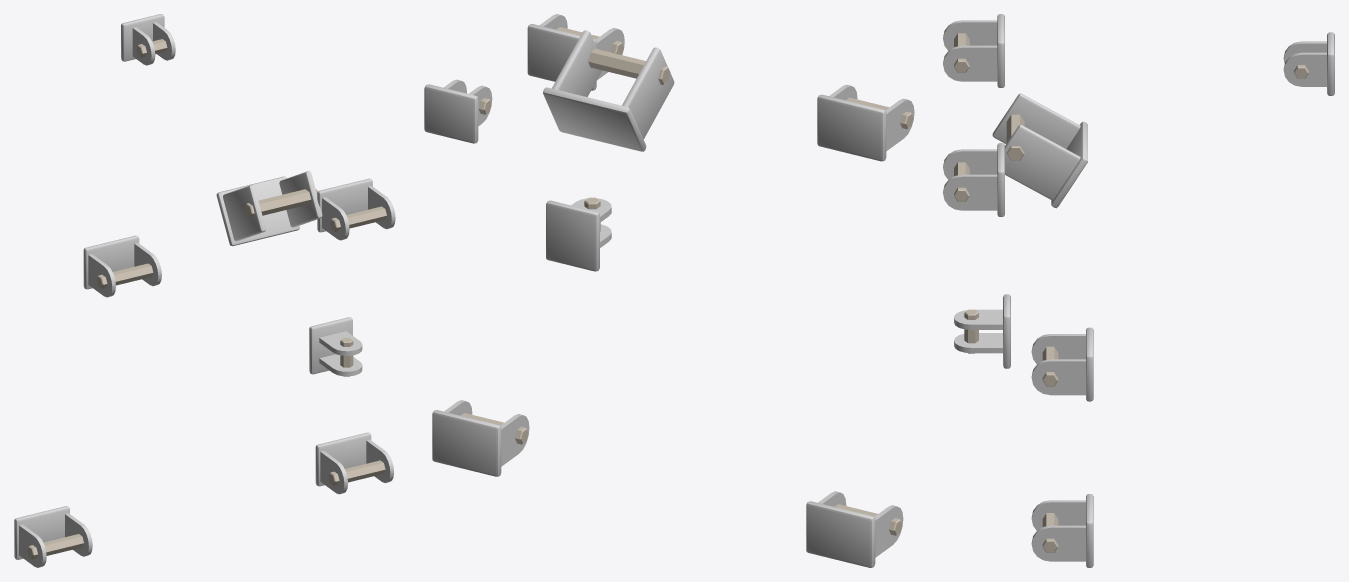
The model's file is SM_Susp_RR_Mounts.fbx.
3 views of the same model, side by side, from view 1: azimuth 30°, elevation 25°; view 2: azimuth 150°, elevation 25°; view 3: azimuth 270°, elevation 25° (orthographic). The views are drawn at different scales.
Visible parts, largest first — view 1: Export_Susp_RR_Mounts; view 2: Export_Susp_RR_Mounts; view 3: Export_Susp_RR_Mounts.
Boxes of the visible parts, left/top/right/bottom form: Export_Susp_RR_Mounts: left=14, top=14, right=395, bottom=567; Export_Susp_RR_Mounts: left=424, top=14, right=914, bottom=567; Export_Susp_RR_Mounts: left=943, top=14, right=1334, bottom=567.
Bounding box in the file's own units: 0.398 × 0.478 × 0.5149.
